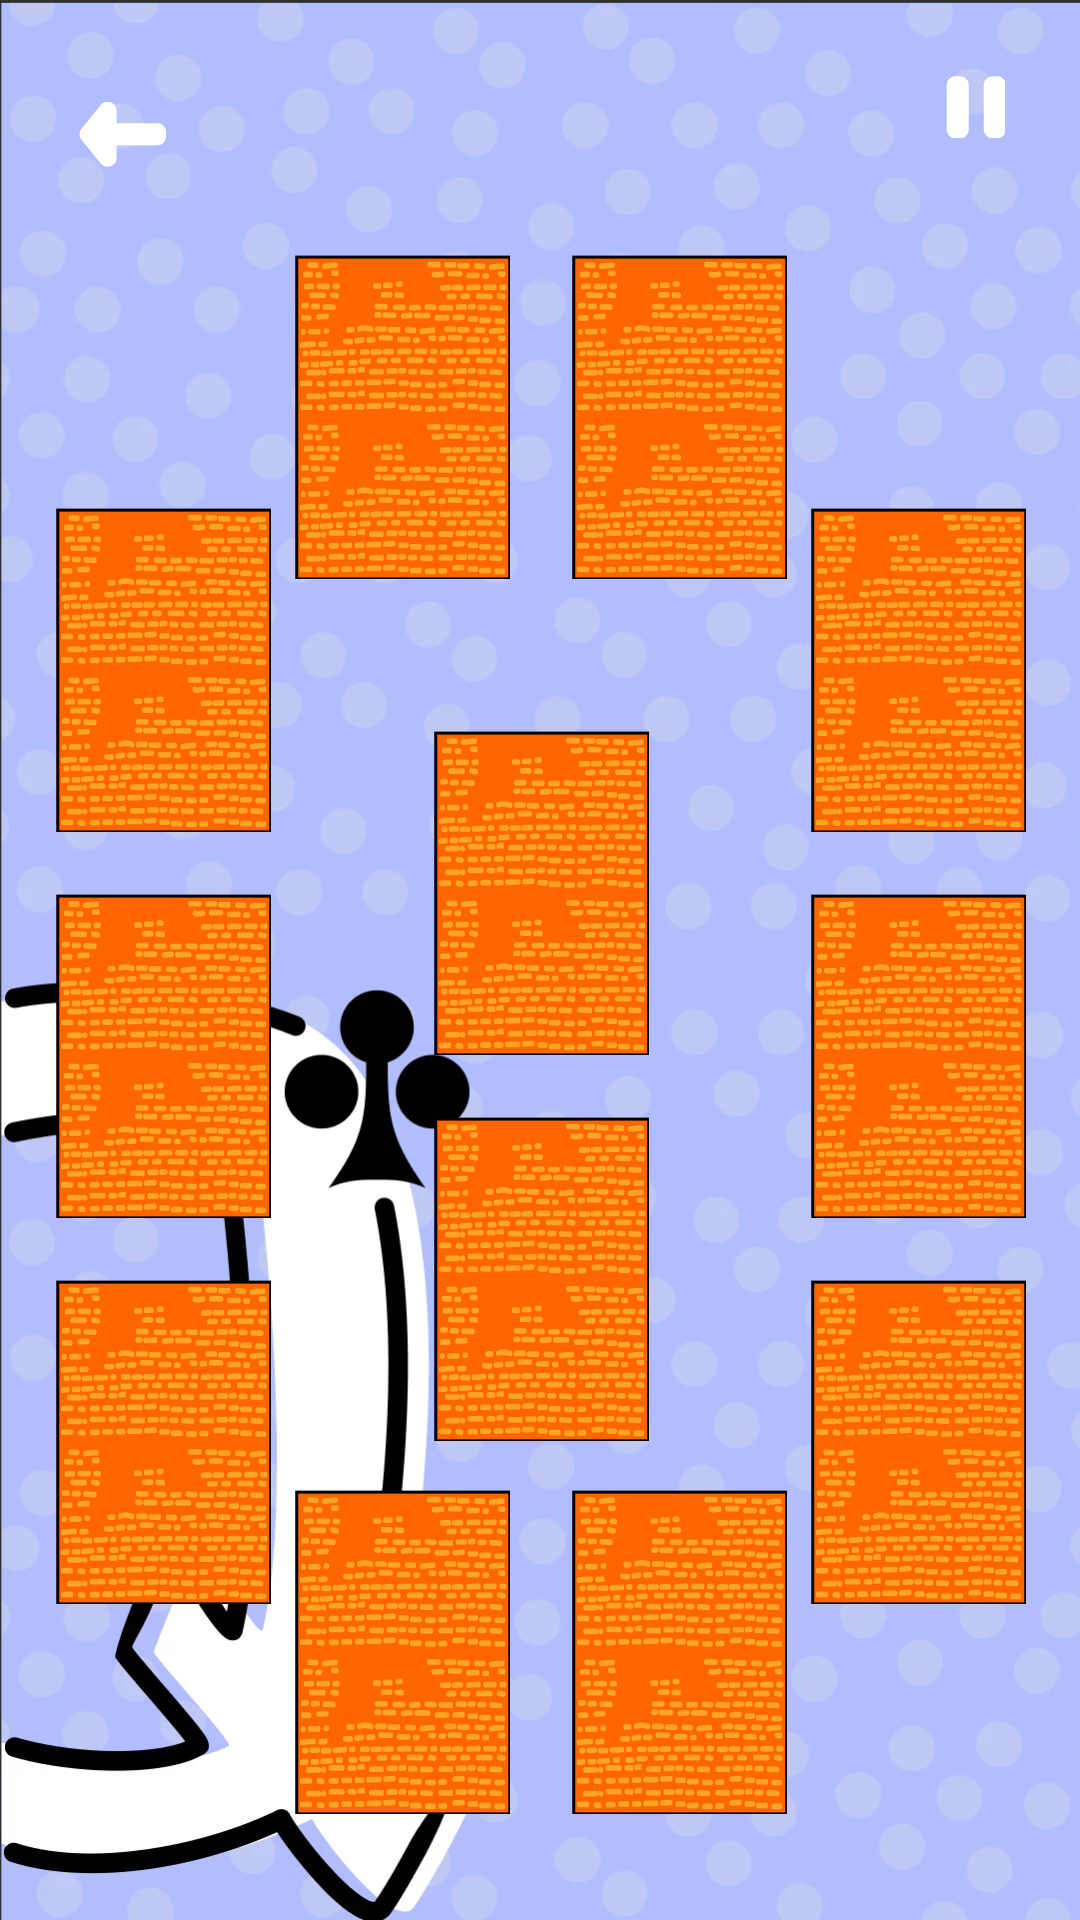

Named icons in this screenshot (1080 × 1920) and their bounding boxes, (x1, y1, x2, y2):
pause: (946, 76, 1005, 138)
